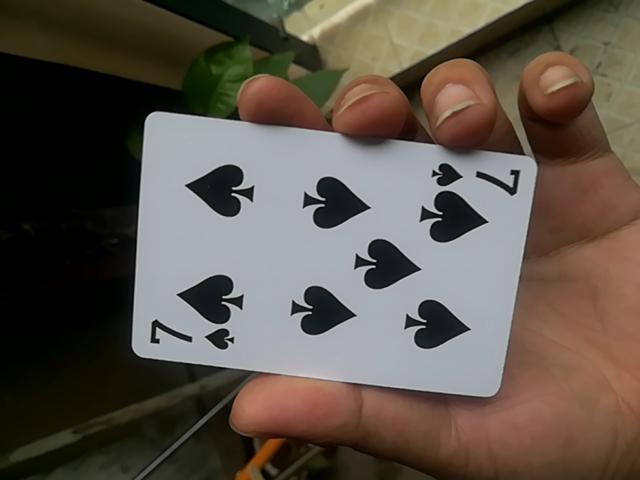ht 7: (126, 105, 534, 402)
